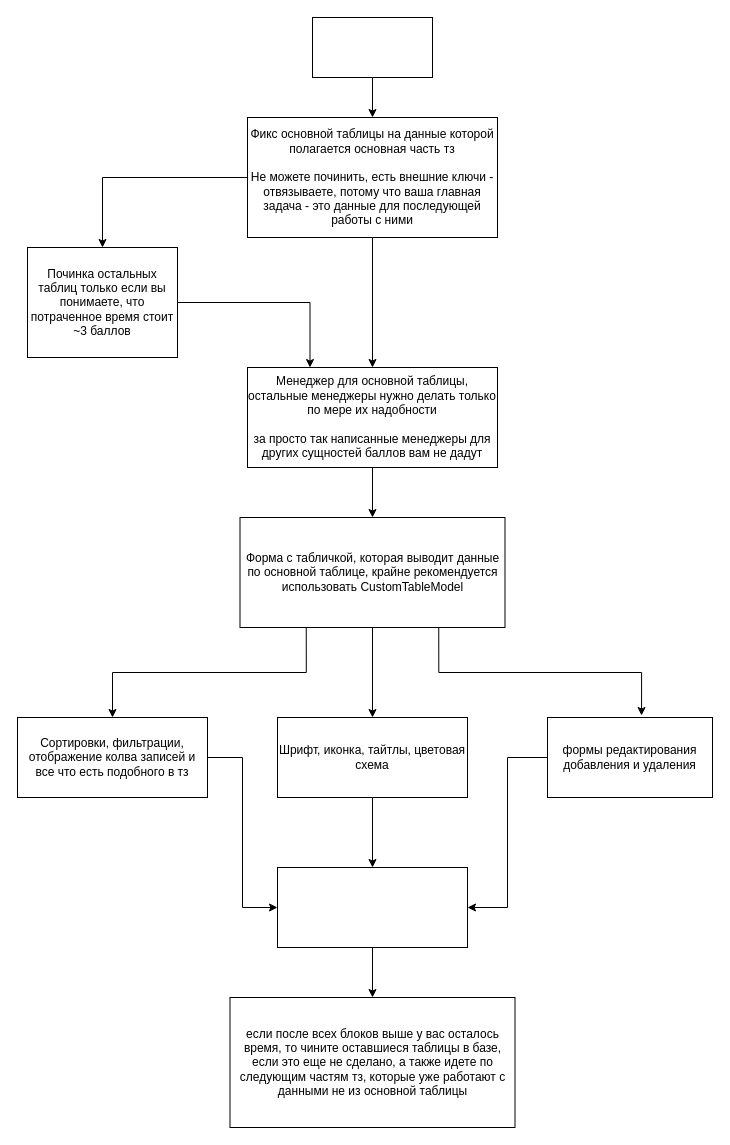
The diagram is 730 pixels wide and 1145 high, and some of its shapes have lost their labels. Here are the shapes that lost their labels. From the top down, the centre of each, then its label:
At (x=372, y=47): "Начало".
At (x=372, y=907): "коментарии (документация) основных моментов кода, readme файл, гит...".
